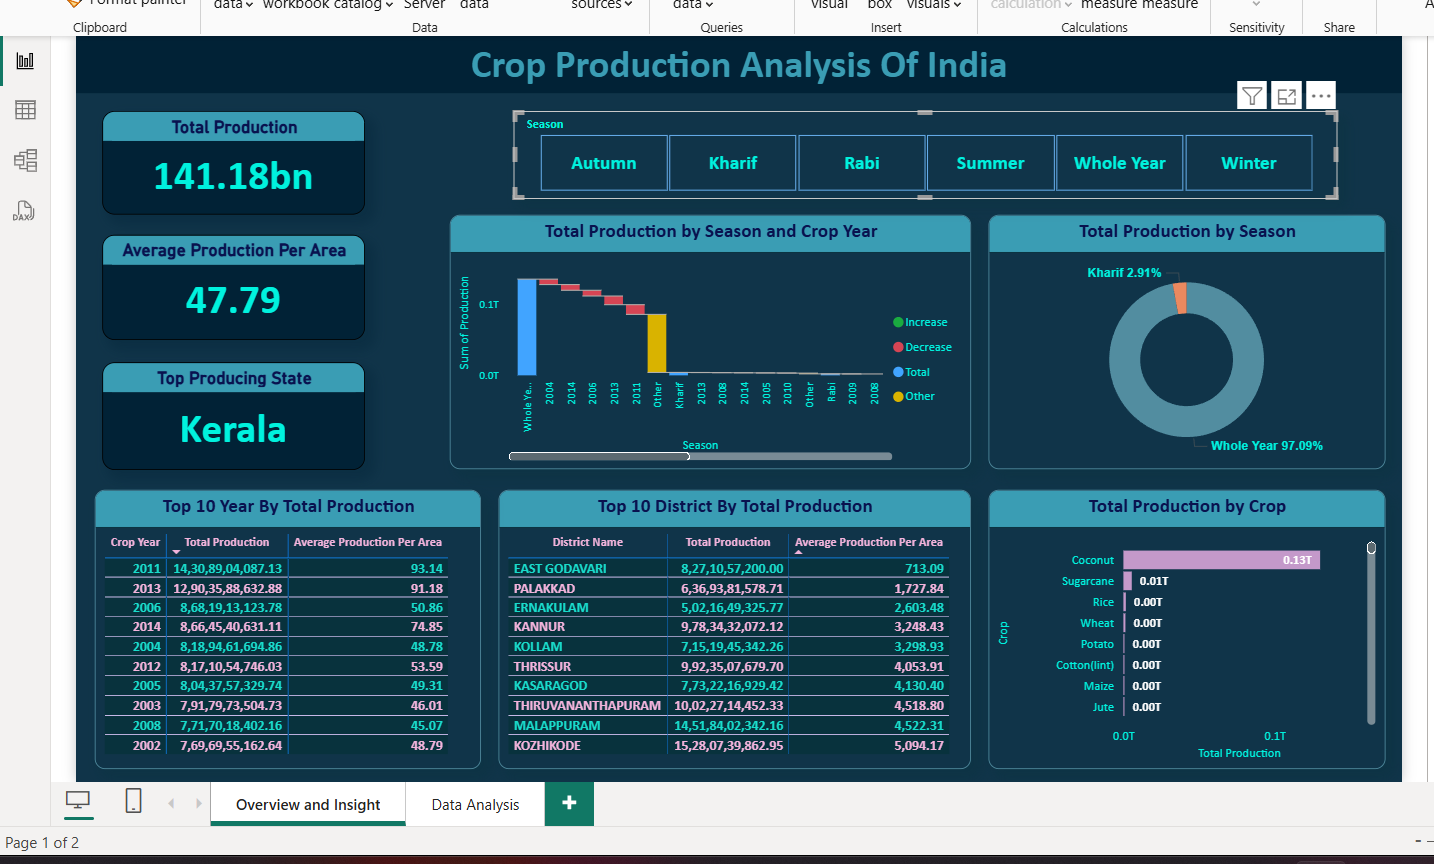

What the dashboard file says about the page in this screenshot:
{"tool":"powerbi","page":{"name":"Overview and Insight","canvas":[1280,720],"ordinal":0},"visuals":[{"type":"textbox","box":[0,0,1280,55.5],"z":0},{"type":"waterfallChart","title":"Total Production by Season and Crop Year","fields":{"Category":["crop_production.Season"],"Breakdown":["crop_production.Crop Year"],"Y":["Sum(crop_production.Production)"]},"box":[360.4,172.5,503.4,245.4],"z":1000},{"type":"donutChart","fields":{"Category":["crop_production.Season"],"Y":["crop_production.Total Production"]},"box":[880.6,172.5,382.8,245.4],"z":2000},{"type":"tableEx","title":"Top 10 District By Total Production","fields":{"Values":["crop_production.District Name","crop_production.Total Production","crop_production.Average Production Per Area"]},"box":[408.1,437.5,455.7,269.2],"z":3000},{"type":"tableEx","title":"Top 10 Year By Total Production","fields":{"Values":["crop_production.Crop Year","crop_production.Total Production","crop_production.Average Production Per Area"]},"box":[18.2,437.5,373,269.2],"z":4000},{"type":"barChart","fields":{"Y":["crop_production.Total Production"],"Category":["crop_production.Crop"]},"box":[880.6,437.5,382.8,269.2],"z":5000},{"type":"card","title":"Total Production","fields":{"Values":["crop_production.Total Production"]},"box":[25,72.7,253.9,100.1],"z":6000},{"type":"card","title":"Average Production Per Area","fields":{"Values":["crop_production.Average Production Per Area"]},"box":[25,191.9,253.9,101.3],"z":7000},{"type":"card","title":"Top Producing State","fields":{"Values":["crop_production.Top Producing State"]},"box":[25,314.7,253.9,103.7],"z":8000},{"type":"slicer","title":"Season","fields":{"Values":["crop_production.Season"]},"box":[422.1,72.9,795.1,84.1],"z":9000}]}

Visuals, with their boxes on the page's 1280x720 design canvas (x1, y1, x2, y2). These are canvas units, not pixel positions in the 1434x864 screenshot, which may show the page scaled, cropped or inside an application window:
textbox: region(0, 0, 1280, 56)
"Total Production by Season and Crop Year" waterfallChart: region(360, 172, 864, 418)
donutChart - crop_production.Season x crop_production.Total Production: region(881, 172, 1263, 418)
"Top 10 District By Total Production" tableEx: region(408, 438, 864, 707)
"Top 10 Year By Total Production" tableEx: region(18, 438, 391, 707)
barChart - crop_production.Total Production x crop_production.Crop: region(881, 438, 1263, 707)
"Total Production" card: region(25, 73, 279, 173)
"Average Production Per Area" card: region(25, 192, 279, 293)
"Top Producing State" card: region(25, 315, 279, 418)
"Season" slicer: region(422, 73, 1217, 157)
